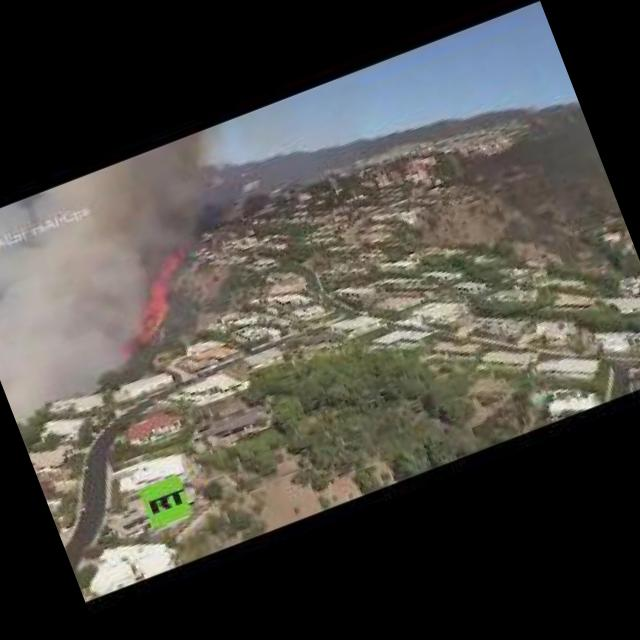fire: (99, 254, 203, 350)
smoke: (0, 134, 272, 440)
